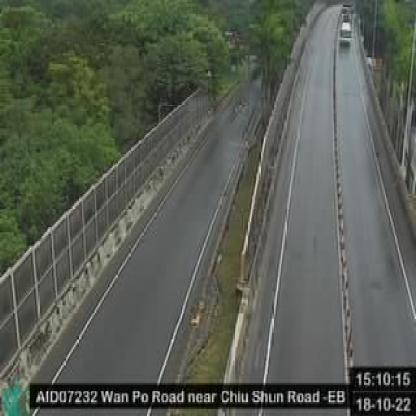Car: (340, 21, 354, 49)
